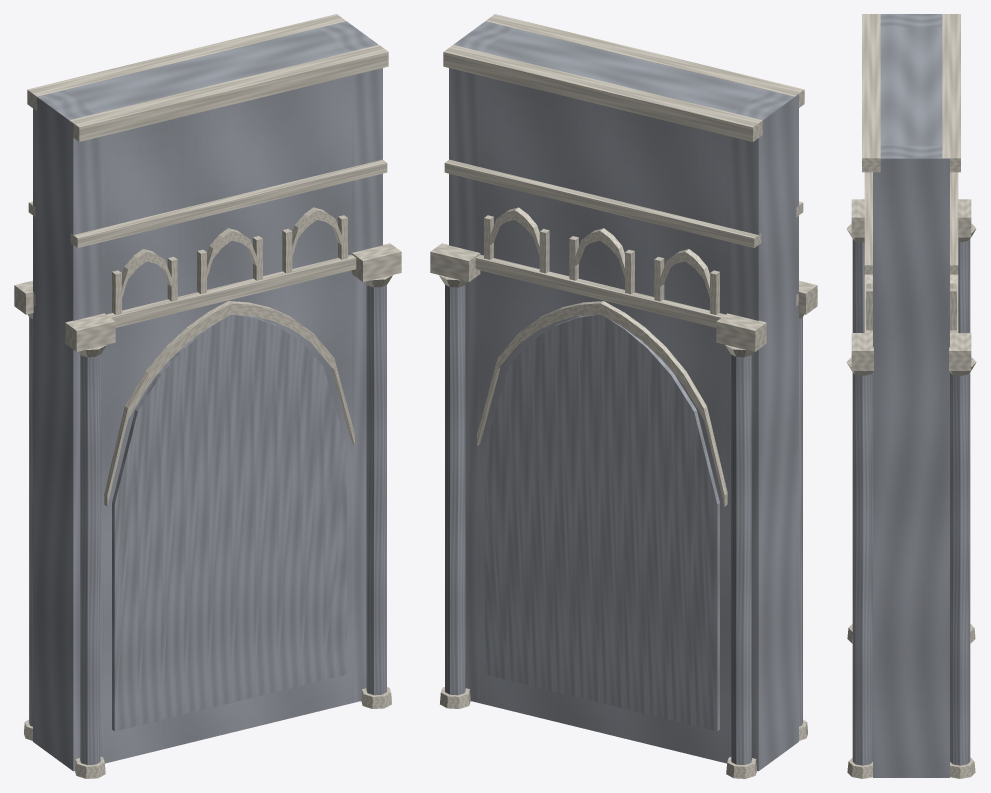
The picture shows the model from 3 angles, left to right: view 1: azimuth 30°, elevation 25°; view 2: azimuth 150°, elevation 25°; view 3: azimuth 270°, elevation 25°; orthographic projection. The views are drawn at different scales.
Parts seen in each view (by area): view 1: nave-bay-blind; view 2: nave-bay-blind; view 3: nave-bay-blind.
Boxes of the visible parts, box(x1,y1,x2,y2) form: nave-bay-blind: box(14, 14, 401, 778); nave-bay-blind: box(430, 14, 817, 778); nave-bay-blind: box(846, 14, 976, 778).
Size of the model in its own units: 4.2 by 8 by 1.52.
2 materials, 2 textured.
